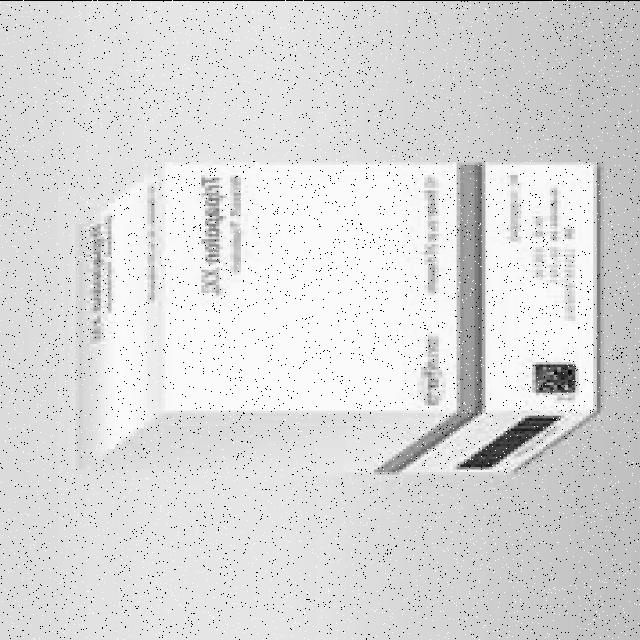datamatrix: (529, 358, 575, 397)
